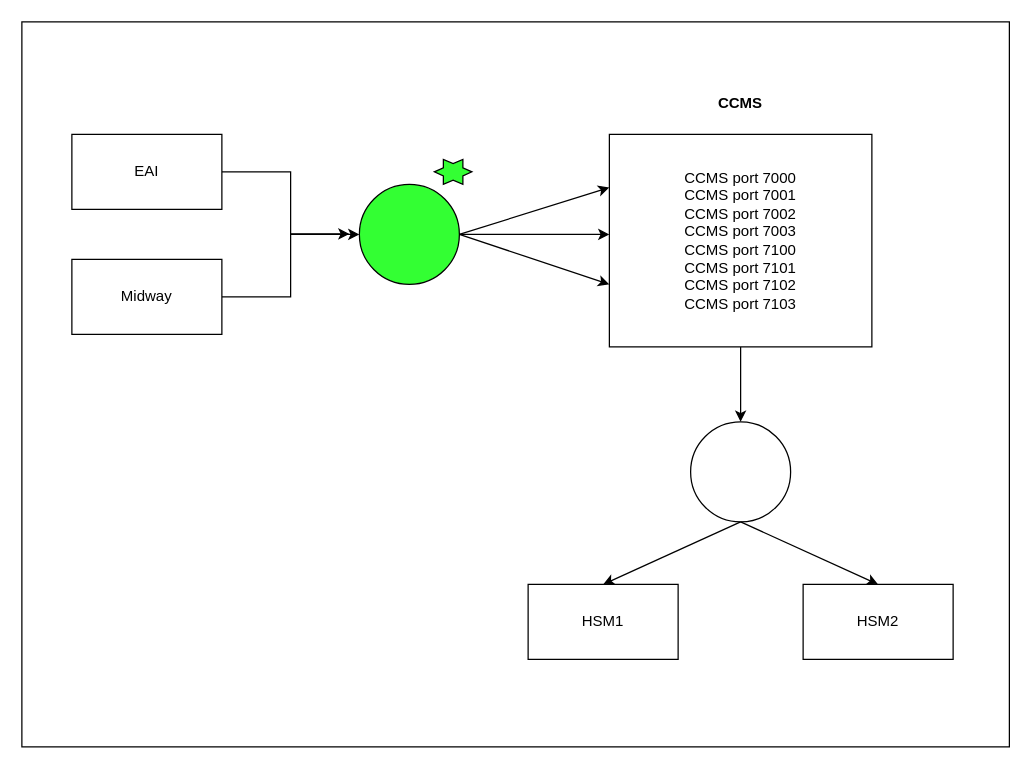
This 1031x769 diagram has some shape labels left out. Here are the shapes that lost their labels. From the top down, the centre of each, then its label:
At [408,233]: "F5".
At [740,471]: "F5 HSM".
